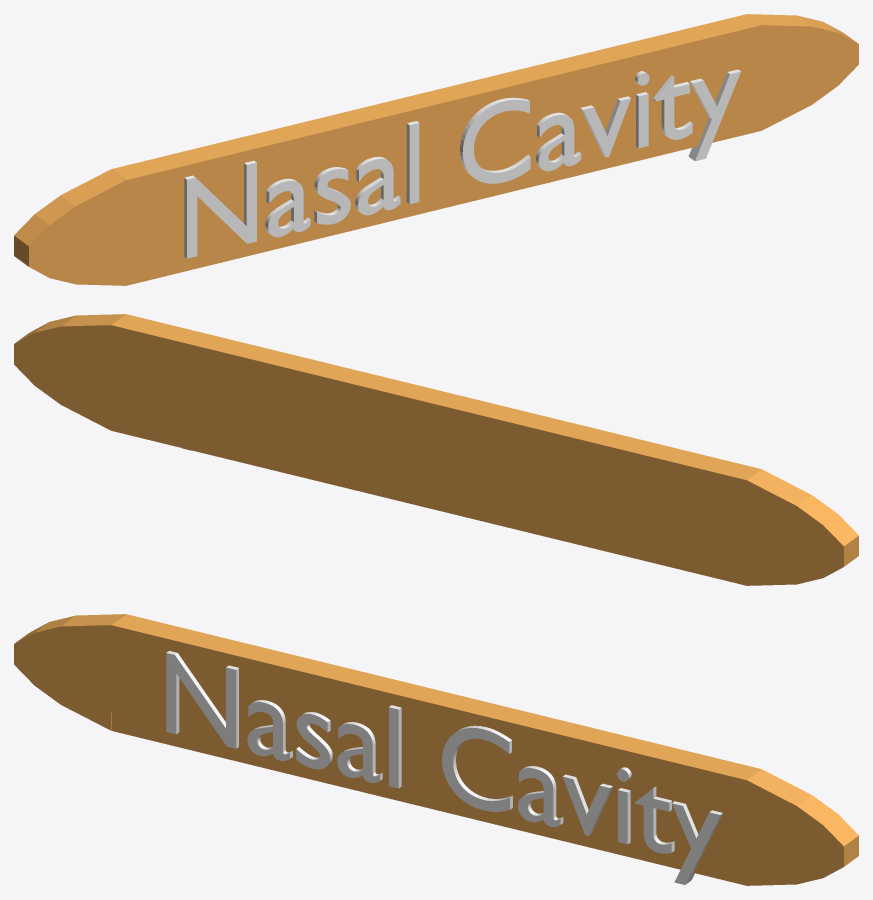
File: TxtNasalCavity.fbx
3 views of the same model, one above another, from view 1: azimuth 30°, elevation 25°; view 2: azimuth 150°, elevation 25°; view 3: azimuth 330°, elevation 25° (orthographic).
Visible parts, largest first — view 1: TagContainer.038, Text.035; view 2: TagContainer.038; view 3: TagContainer.038, Text.035.
Part boxes in pixels (bbox=[...]): TagContainer.038: bbox=[14, 14, 858, 285]; Text.035: bbox=[184, 69, 740, 258]; TagContainer.038: bbox=[14, 314, 858, 585]; TagContainer.038: bbox=[14, 614, 858, 885]; Text.035: bbox=[166, 651, 722, 884].
Bounding box in the file's own units: 339 × 45.79 × 12.7.
